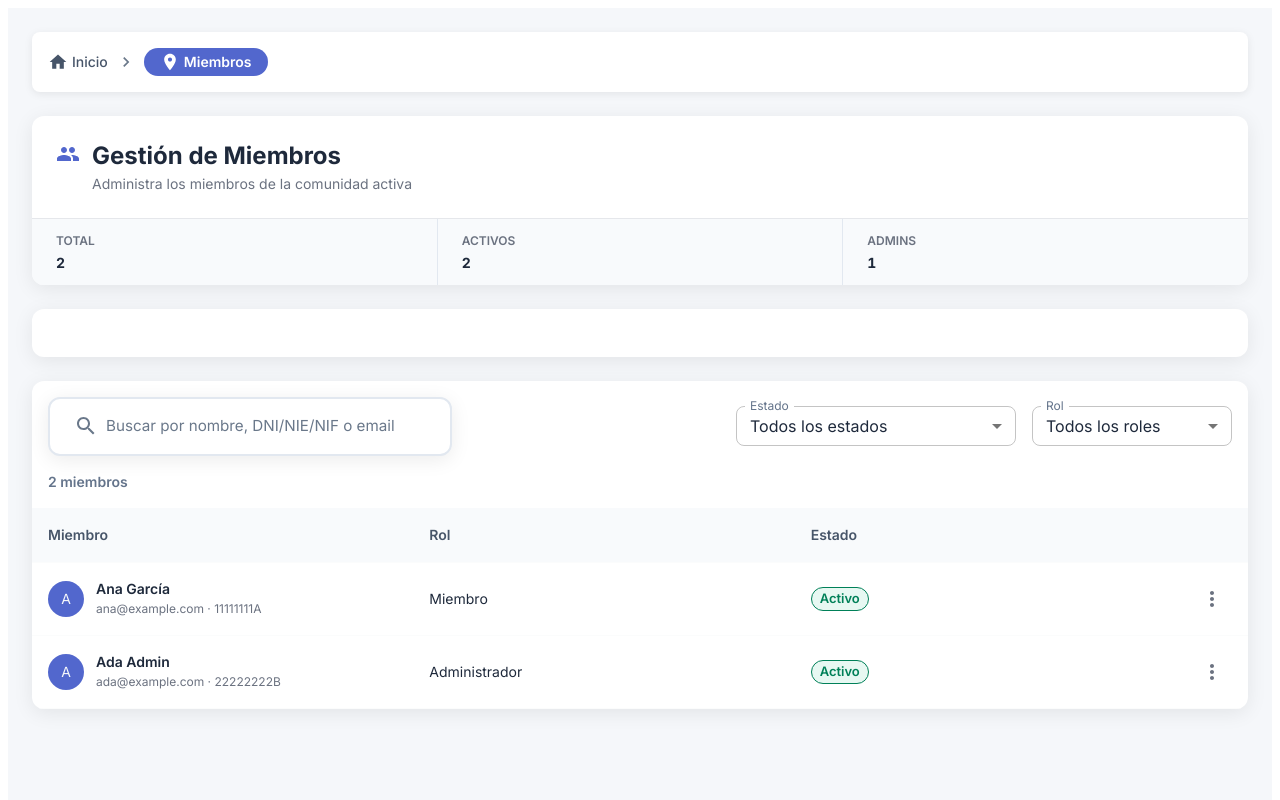
Test: suspending and reactivating a member › UI-MBR-005 UI-MBR-006 suspends, shows the row suspended, then reactivates it
Expected: the text "Ana García" is shown, top-left (96, 580), bottom-right (170, 597)
Expected: the text "Activo" in the row of "Ana García" is shown, top-left (820, 590), bottom-right (860, 606)
Click the button named "Más acciones para Ana García" at (1212, 599), box top-left (1195, 582), bottom-right (1229, 616)
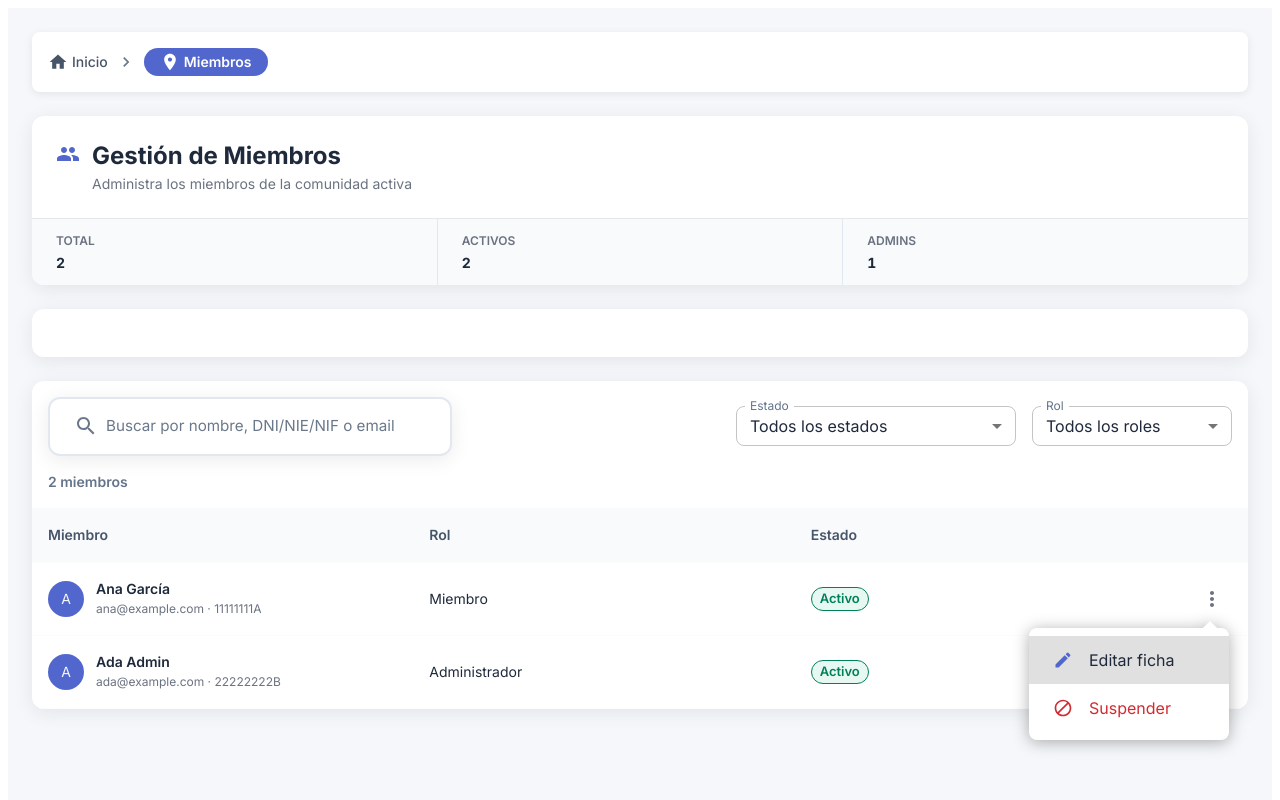
Click the menu item "Suspender" at (1112, 708), box top-left (1053, 698), bottom-right (1171, 718)
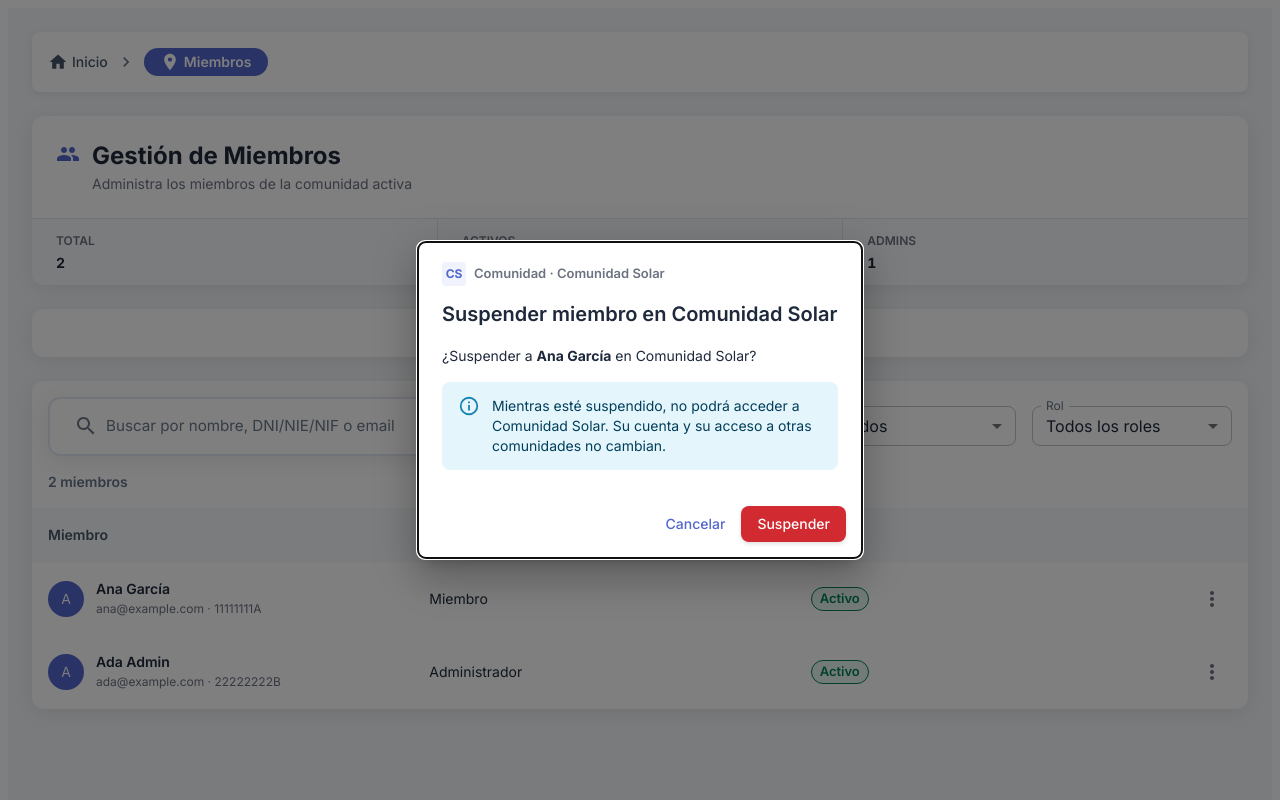
Click the button "Suspender" at (794, 524), box top-left (741, 506), bottom-right (846, 542)
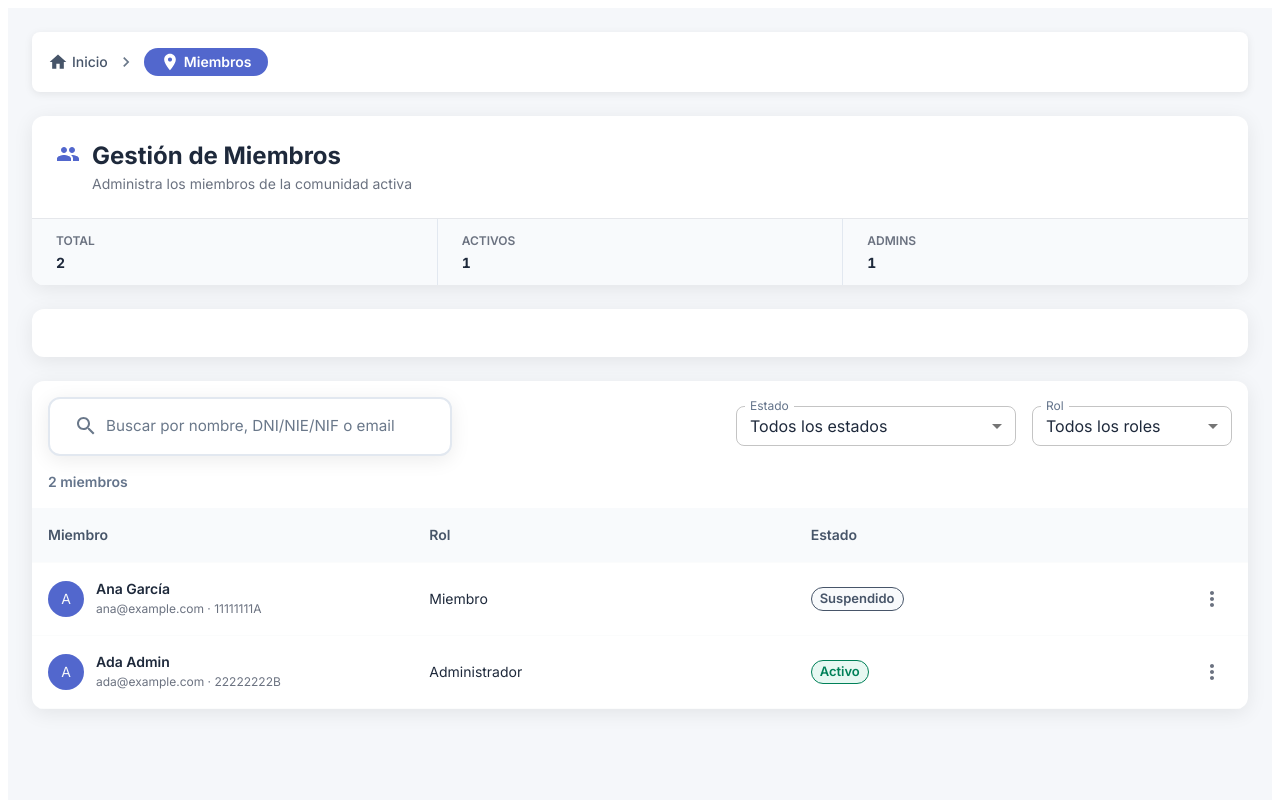
Now the dialog is gone
Now the text "Suspendido" is shown, box top-left (820, 590), bottom-right (895, 606)
Click the button named "Más acciones para Ana García" at (1212, 599), box top-left (1195, 582), bottom-right (1229, 616)
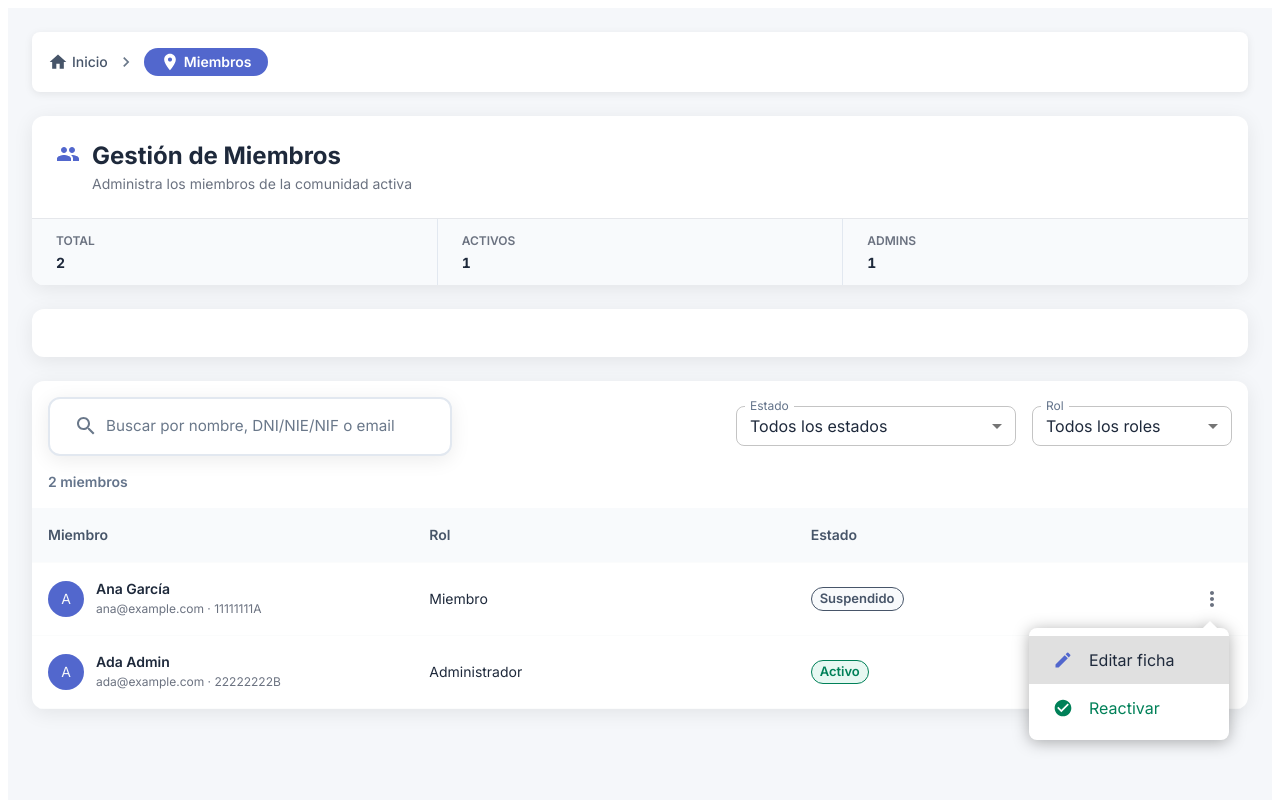
Click the menu item "Reactivar" at (1106, 708), box top-left (1053, 698), bottom-right (1160, 718)
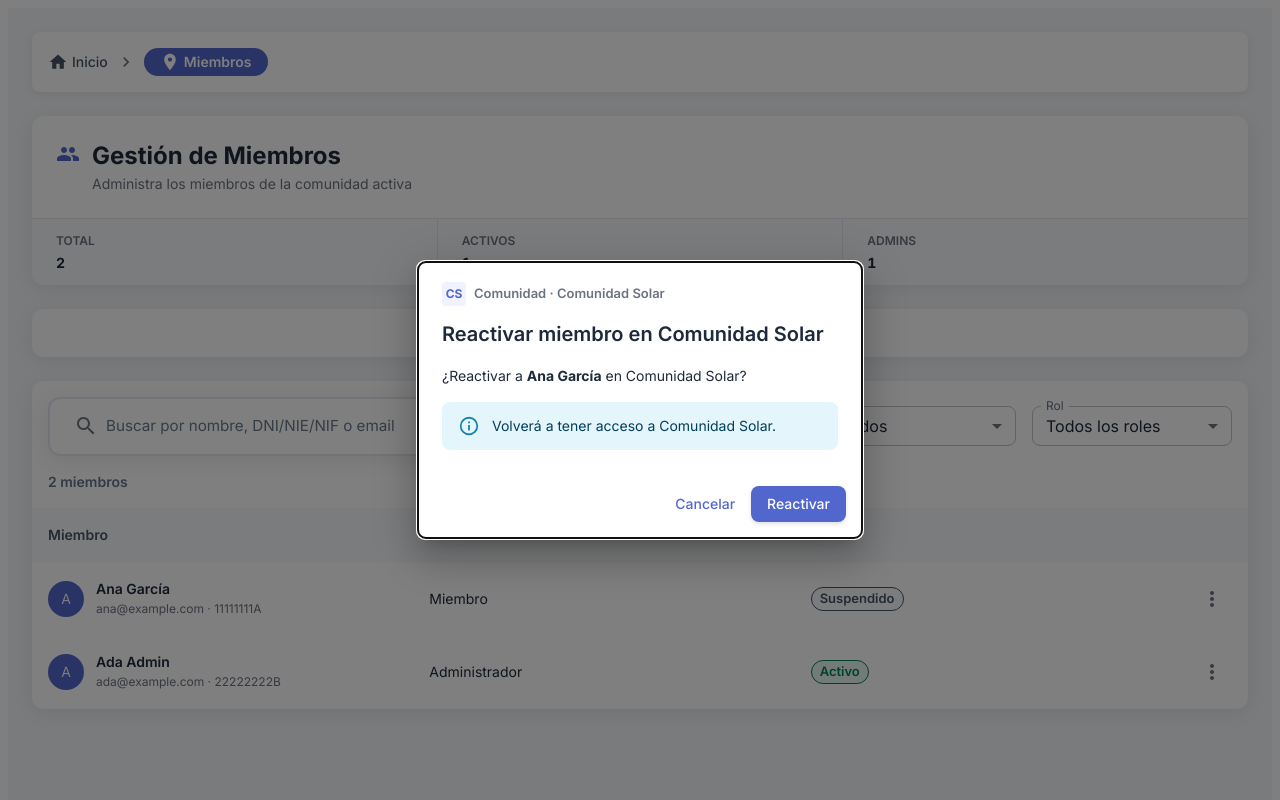
Click the button "Reactivar" at (799, 504), box top-left (751, 486), bottom-right (846, 522)
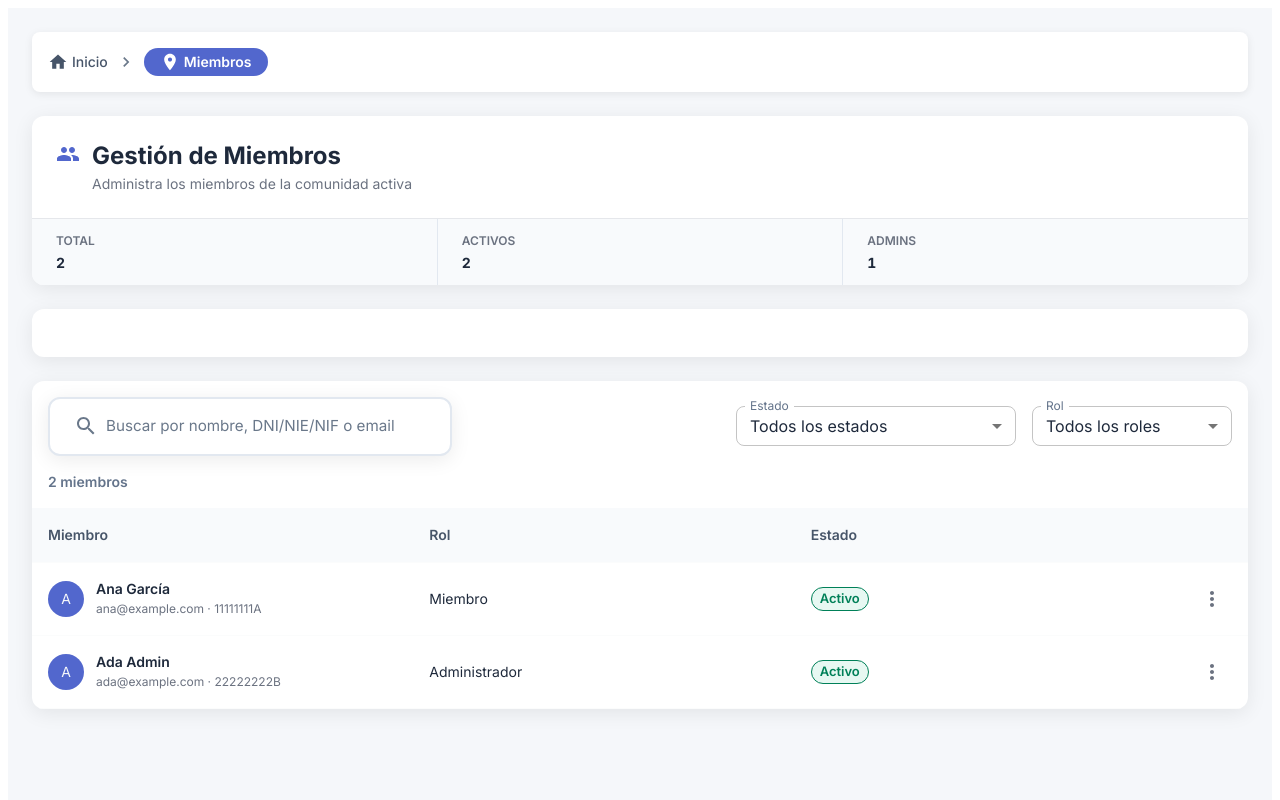
Now the dialog is gone
Now the text "Activo" in the row of "Ana García" is shown, box top-left (820, 590), bottom-right (860, 606)
